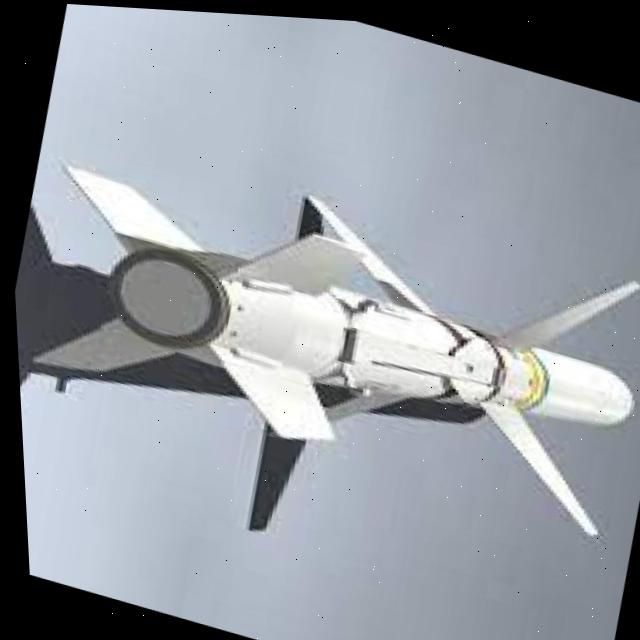missile: (4, 110, 640, 530)
